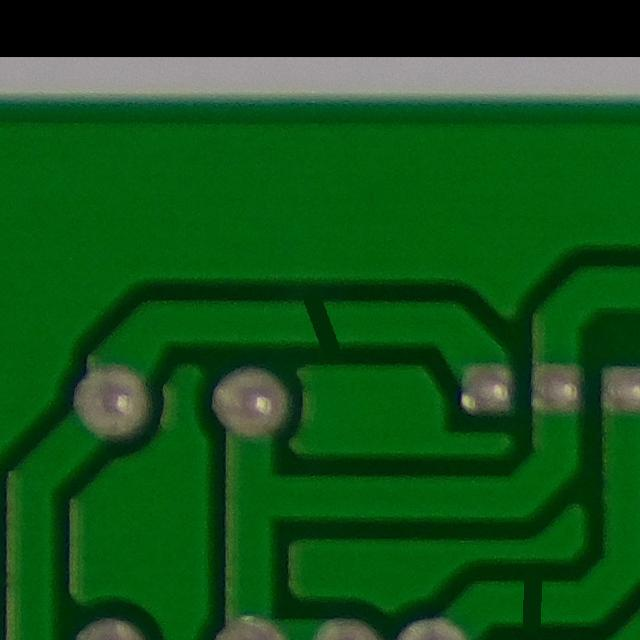open_circuit: (283, 284, 358, 355)
